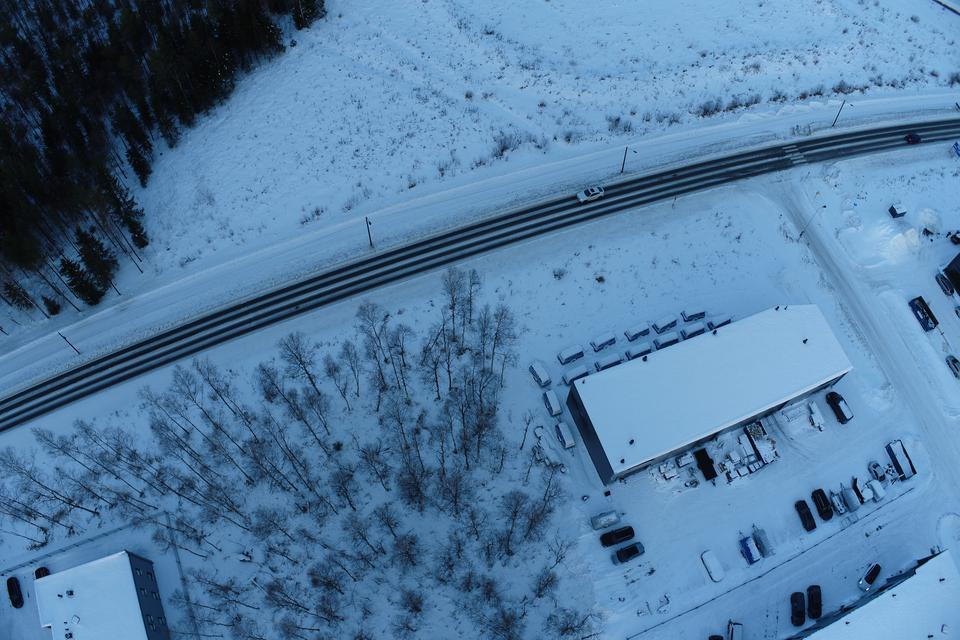intersection: (680, 95, 841, 220)
